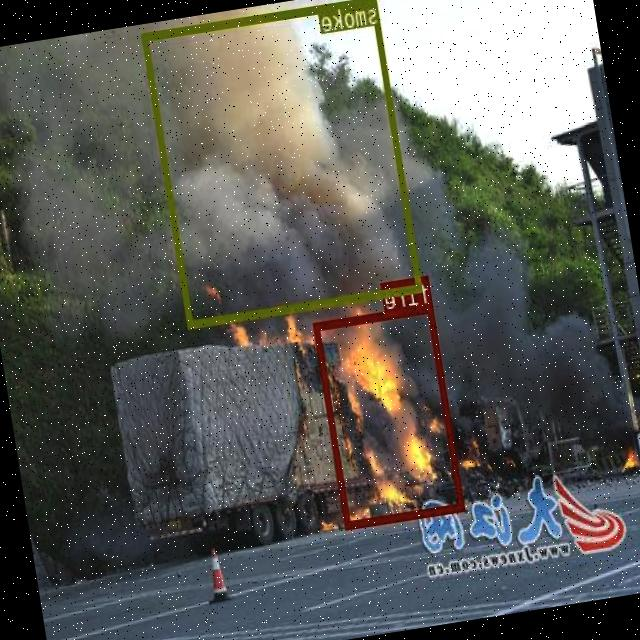fire: (315, 303, 466, 528)
smoke: (142, 0, 423, 327)
